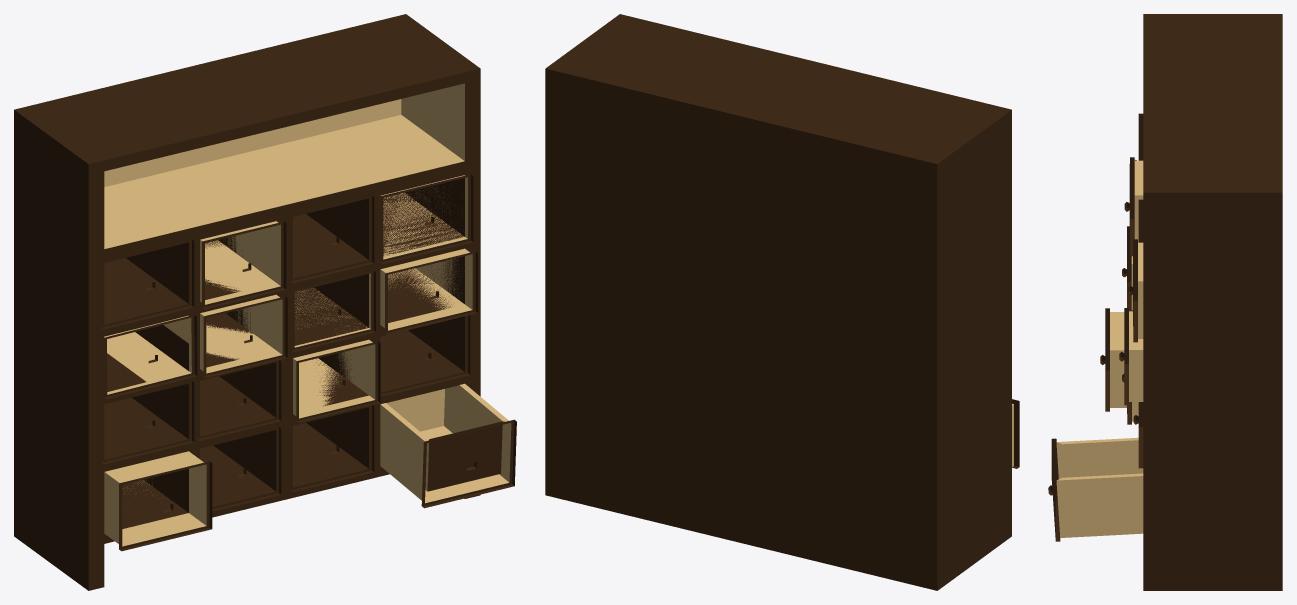
The model's file is Square Drawrs.glb.
The picture shows the model from 3 angles, left to right: view 1: azimuth 30°, elevation 25°; view 2: azimuth 150°, elevation 25°; view 3: azimuth 270°, elevation 25°; orthographic projection. The views are drawn at different scales.
Parts seen in each view (by area): view 1: Drawrs bigger, Drawrs exported; view 2: Drawrs bigger; view 3: Drawrs bigger, Drawrs exported.
Part boxes in pixels (bbox=[...]): Drawrs bigger: bbox=[14, 14, 480, 590]; Drawrs exported: bbox=[101, 174, 516, 551]; Drawrs bigger: bbox=[545, 14, 1011, 590]; Drawrs bigger: bbox=[1143, 14, 1282, 590]; Drawrs exported: bbox=[1048, 113, 1143, 541].
Size of the model in its own units: 21.22 by 22.07 by 11.75.
